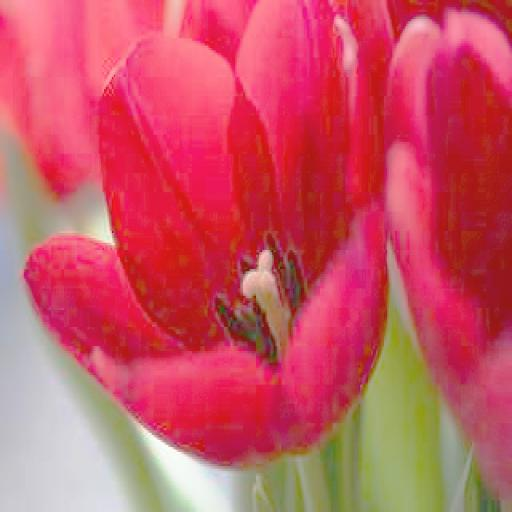tulip: (18, 2, 388, 464)
